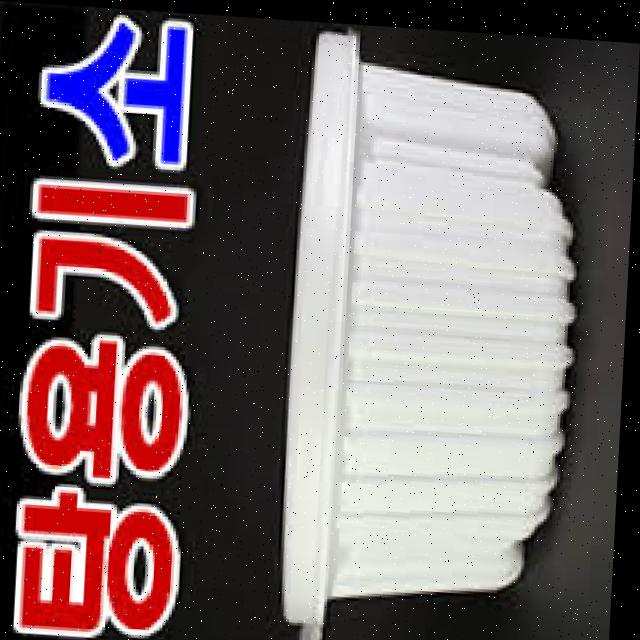disposable: (275, 26, 610, 640)
